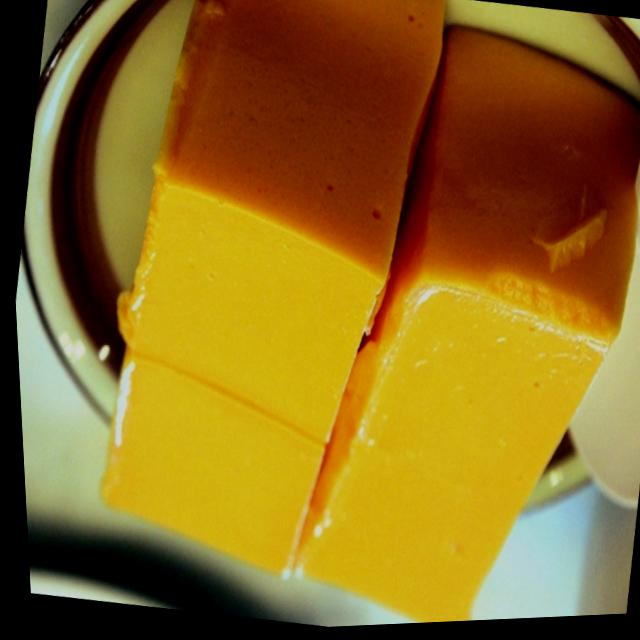蛋糕甜品: (2, 0, 640, 640)
